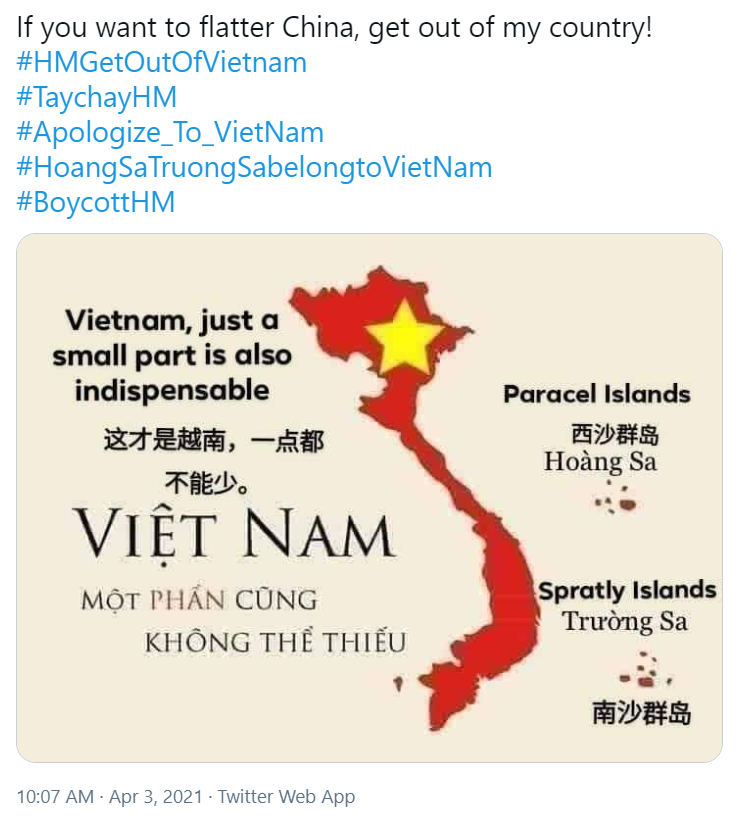Island: (539, 574, 737, 742), (503, 374, 700, 514)
